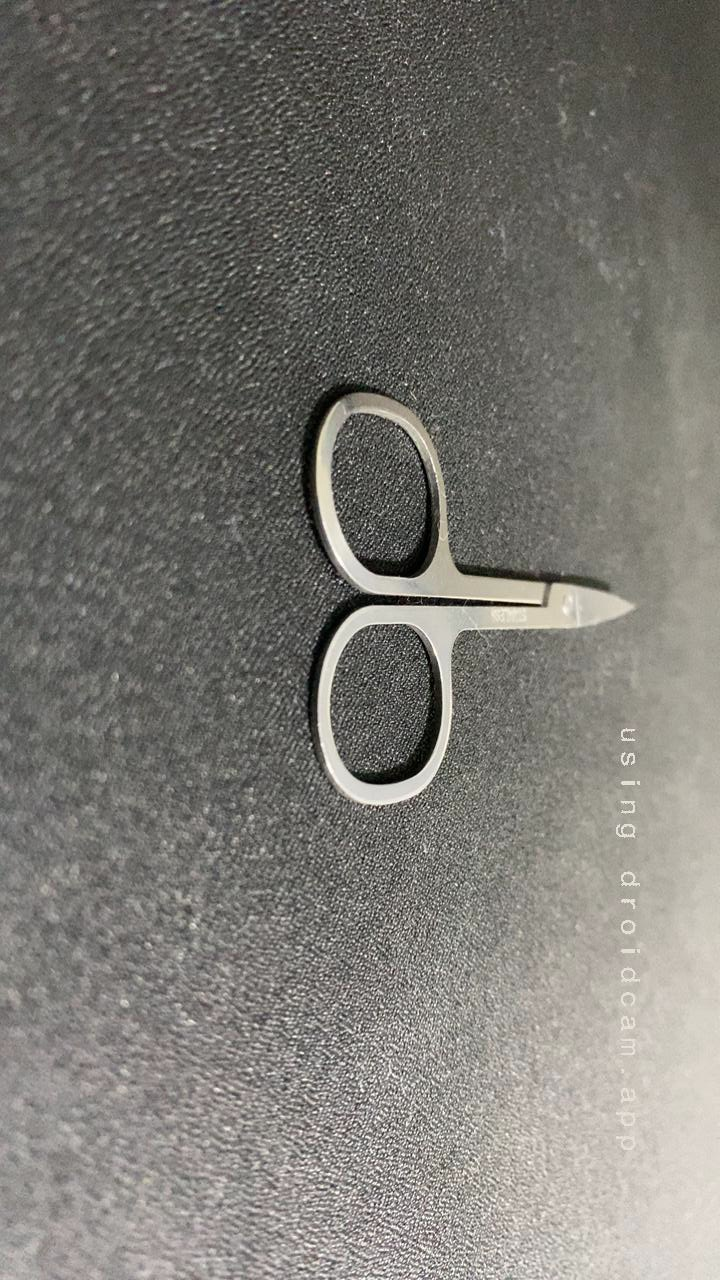scissor: (249, 373, 476, 605)
